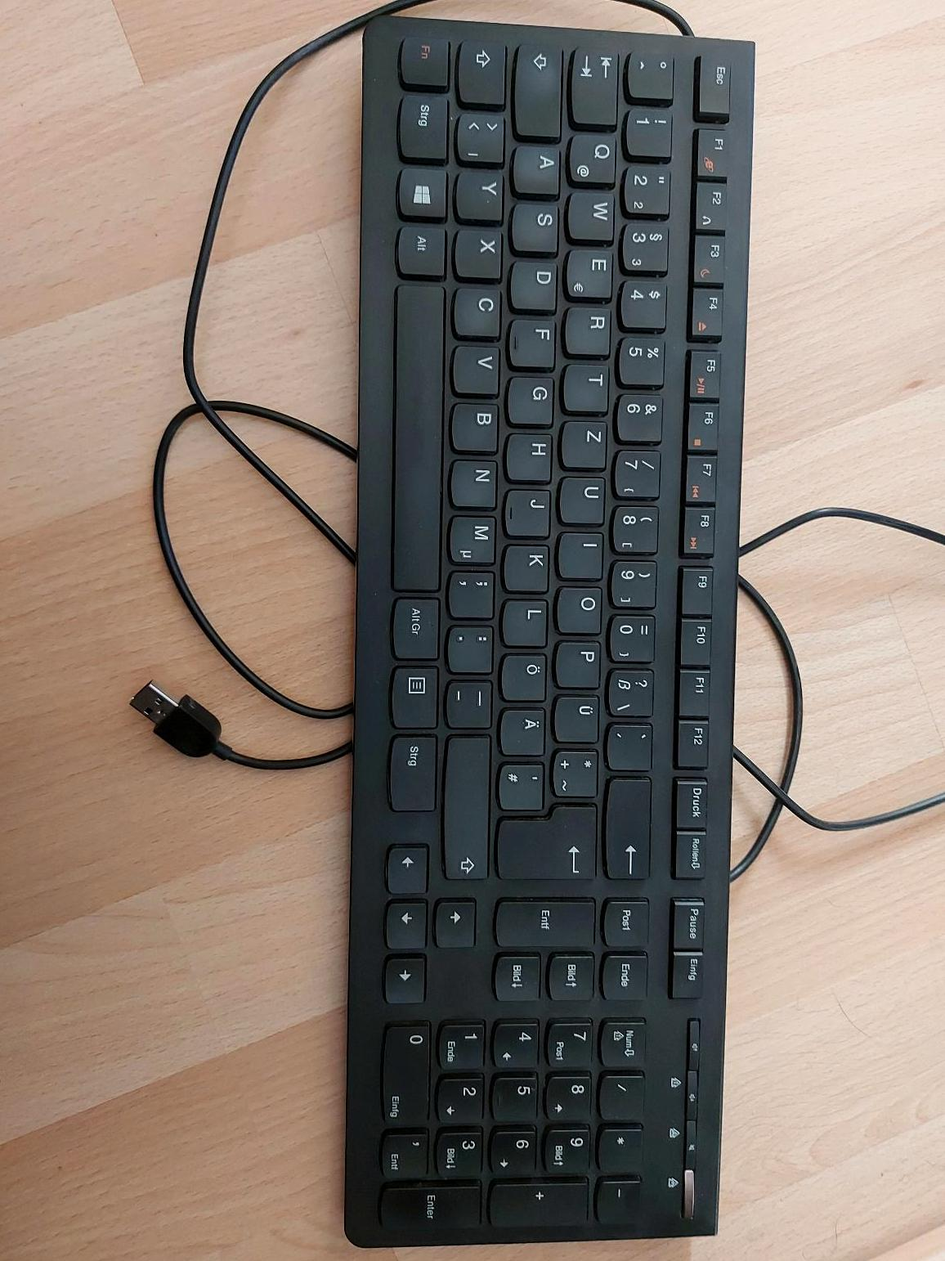0: (607, 615, 656, 664)
1: (623, 107, 673, 160)
2: (621, 164, 671, 217)
3: (620, 222, 670, 276)
4: (618, 279, 668, 332)
5: (616, 334, 666, 388)
6: (615, 393, 663, 443)
7: (612, 449, 661, 500)
8: (612, 505, 661, 556)
9: (610, 560, 658, 609)
a: (511, 143, 561, 196)
accent: (605, 722, 654, 771)
ae: (498, 708, 544, 757)
alt-left: (396, 224, 446, 277)
altgr-right: (392, 597, 440, 662)
b: (450, 402, 498, 453)
c: (453, 283, 503, 336)
caret: (625, 50, 675, 103)
comma: (448, 572, 496, 621)
d: (510, 258, 558, 310)
del: (603, 774, 652, 882)
e: (565, 246, 615, 298)
enter: (495, 804, 597, 879)
f: (508, 316, 556, 366)
g: (505, 376, 553, 427)
h: (505, 433, 553, 482)
hash: (497, 763, 544, 812)
i: (558, 528, 604, 578)
j: (503, 485, 551, 536)
k: (502, 545, 550, 594)
keyboard: (327, 3, 771, 1257)
l: (501, 595, 549, 644)
less: (455, 112, 505, 165)
m: (448, 514, 496, 564)
minus: (444, 681, 492, 730)
n: (450, 459, 498, 509)
o: (556, 582, 604, 633)
oe: (500, 650, 548, 700)
p: (555, 638, 602, 687)
plus: (553, 750, 599, 799)
point: (445, 626, 493, 675)
q: (567, 133, 616, 186)
r: (565, 303, 612, 354)
s: (511, 200, 560, 253)
shift-left: (455, 39, 509, 108)
shift-lock: (511, 43, 565, 140)
shift-right: (441, 734, 491, 882)
space: (389, 282, 447, 593)
ss: (607, 669, 655, 718)
strg-left: (398, 93, 450, 160)
strg-right: (387, 732, 438, 814)
t: (562, 360, 610, 411)
tab: (567, 45, 621, 128)
u: (558, 473, 607, 523)
ue: (553, 692, 600, 741)
v: (451, 342, 501, 394)
w: (566, 190, 616, 243)
x: (453, 225, 503, 278)
y: (454, 171, 504, 224)
z: (560, 418, 608, 469)
